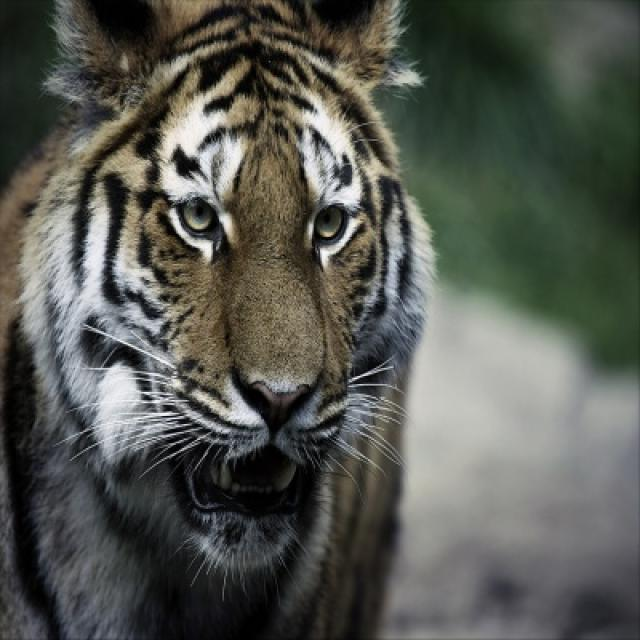Tiger: (0, 0, 437, 638)
